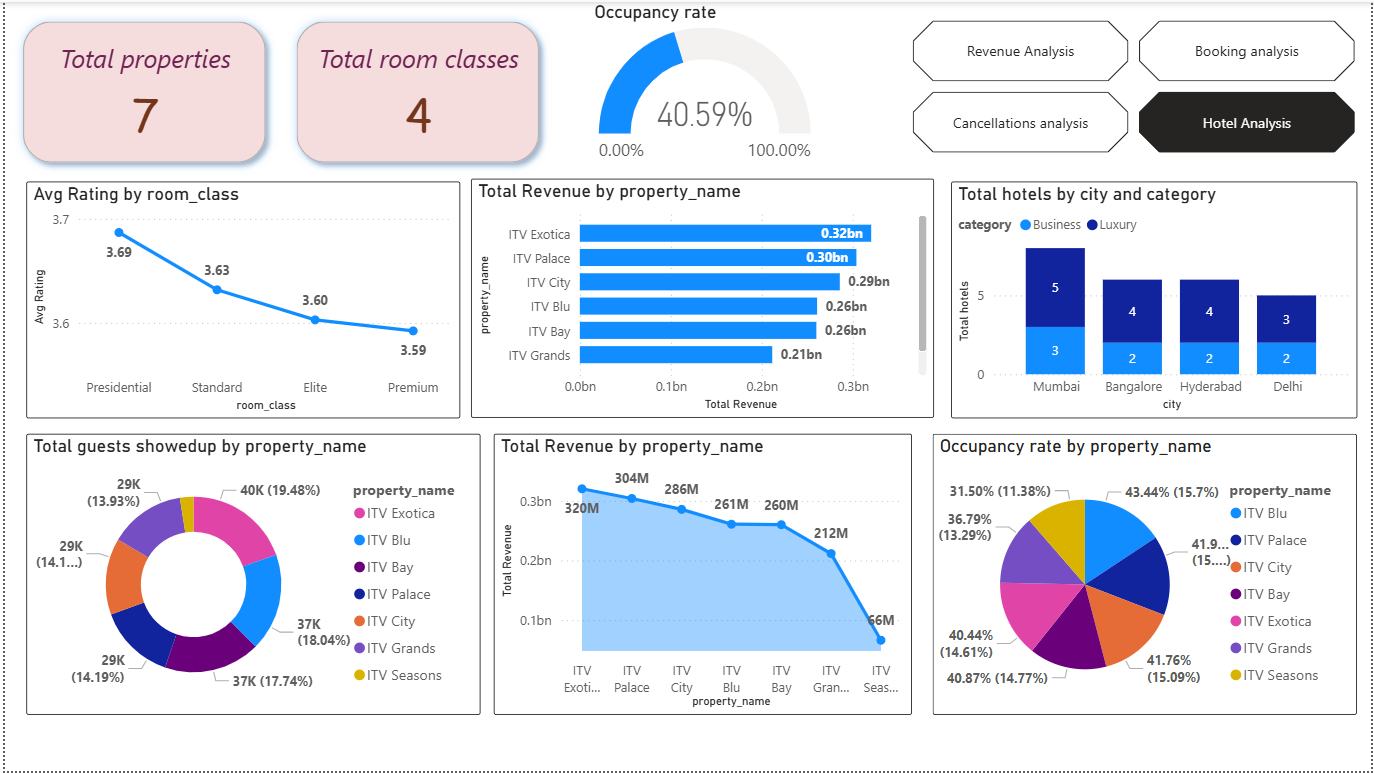

This screenshot's page, from the dashboard's own definition file:
{"tool":"powerbi","page":{"name":"Hotel Analysis","canvas":[1280,720],"ordinal":3},"visuals":[{"type":"cardVisual","fields":{"Data":["Other measures.Total properties","Other measures.Total room classes"]},"box":[0,0,775,167.5],"z":0},{"type":"clusteredBarChart","fields":{"Y":["revenue measure.Total Revenue"],"Category":["dim_hotels.property_name"]},"box":[436,166,434,224],"z":1000},{"type":"donutChart","fields":{"Category":["dim_hotels.property_name"],"Y":["guests measure.Total guests showedup"]},"box":[20.6,404.5,425.1,263.3],"z":2000},{"type":"lineChart","fields":{"Y":["Other measures.Avg Rating"],"Category":["dim_rooms.room_class"]},"box":[20,168,406,222],"z":3000},{"type":"areaChart","fields":{"Y":["revenue measure.Total Revenue"],"Category":["dim_hotels.property_name"]},"box":[457.4,404.5,391.2,263.3],"z":4000},{"type":"columnChart","fields":{"Y":["Other measures.Total hotels"],"Category":["dim_hotels.city"],"Series":["dim_hotels.category"]},"box":[886,168,380,222],"z":5000},{"type":"gauge","fields":{"Y":["guests measure.Occupancy rate"]},"box":[546.7,0,216.7,160],"z":6000},{"type":"pageNavigator","box":[850,18,414,124],"z":7000},{"type":"pieChart","fields":{"Y":["guests measure.Occupancy rate"],"Category":["dim_hotels.property_name"]},"box":[869.3,404.5,397.1,263.3],"z":8000}]}

Visuals, with their boxes in screenshot pixels (x1, y1, x2, y2), scaled from the page's 1280x720 canvas onto the 1374x773 screenshot:
cardVisual - Other measures.Total properties x Other measures.Total room classes: l=0, t=0, r=832, b=180
clusteredBarChart - revenue measure.Total Revenue x dim_hotels.property_name: l=468, t=178, r=934, b=419
donutChart - dim_hotels.property_name x guests measure.Total guests showedup: l=22, t=434, r=478, b=717
lineChart - Other measures.Avg Rating x dim_rooms.room_class: l=21, t=180, r=457, b=419
areaChart - revenue measure.Total Revenue x dim_hotels.property_name: l=491, t=434, r=911, b=717
columnChart - Other measures.Total hotels x dim_hotels.city: l=951, t=180, r=1359, b=419
gauge - guests measure.Occupancy rate: l=587, t=0, r=819, b=172
pageNavigator: l=912, t=19, r=1357, b=152
pieChart - guests measure.Occupancy rate x dim_hotels.property_name: l=933, t=434, r=1359, b=717
